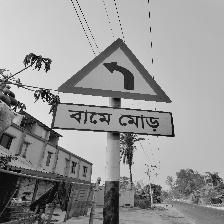Left-Turn: (54, 39, 175, 138)
